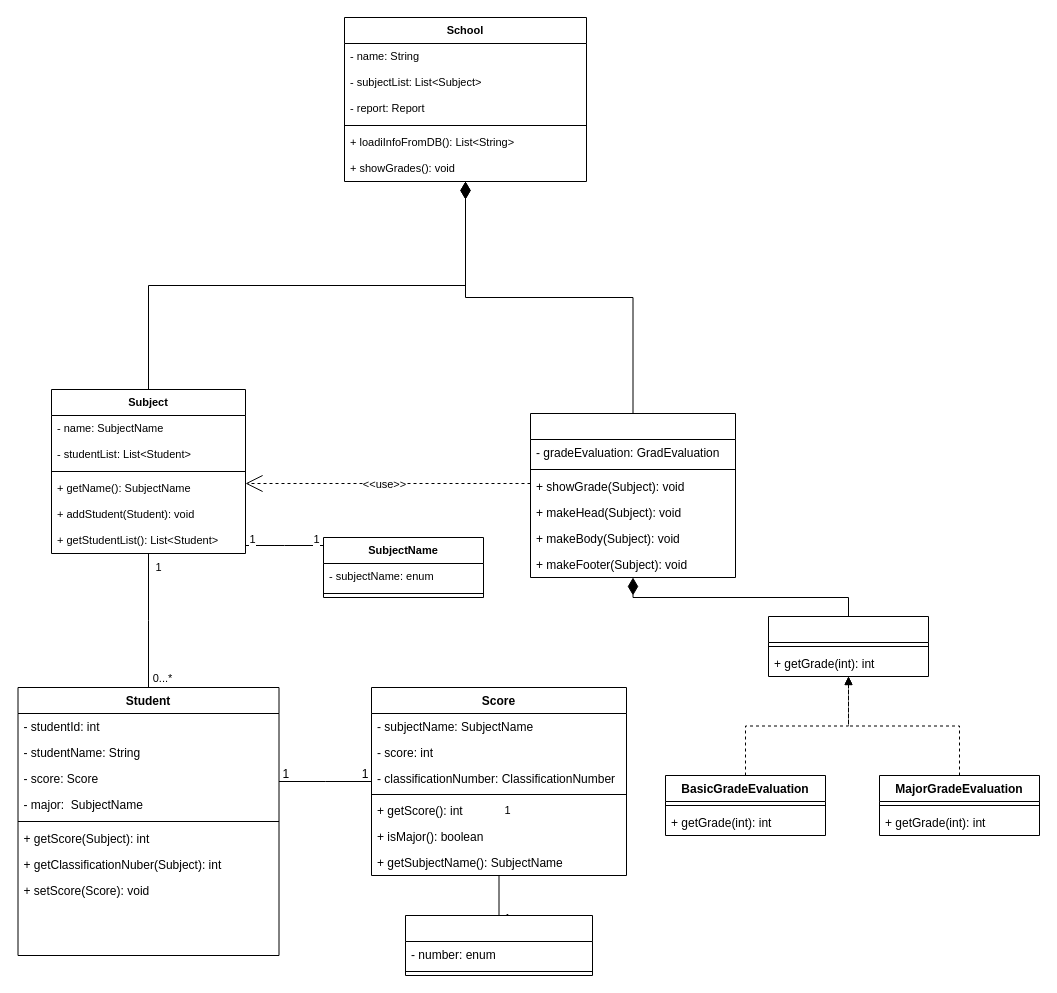
This 1057x993 diagram has some shape labels left out. Each missing label, with the box of its shape:
ClassificationNumber: (404, 914, 592, 976)
GradeEvaluation: (768, 616, 928, 676)
Report: (530, 412, 736, 578)
